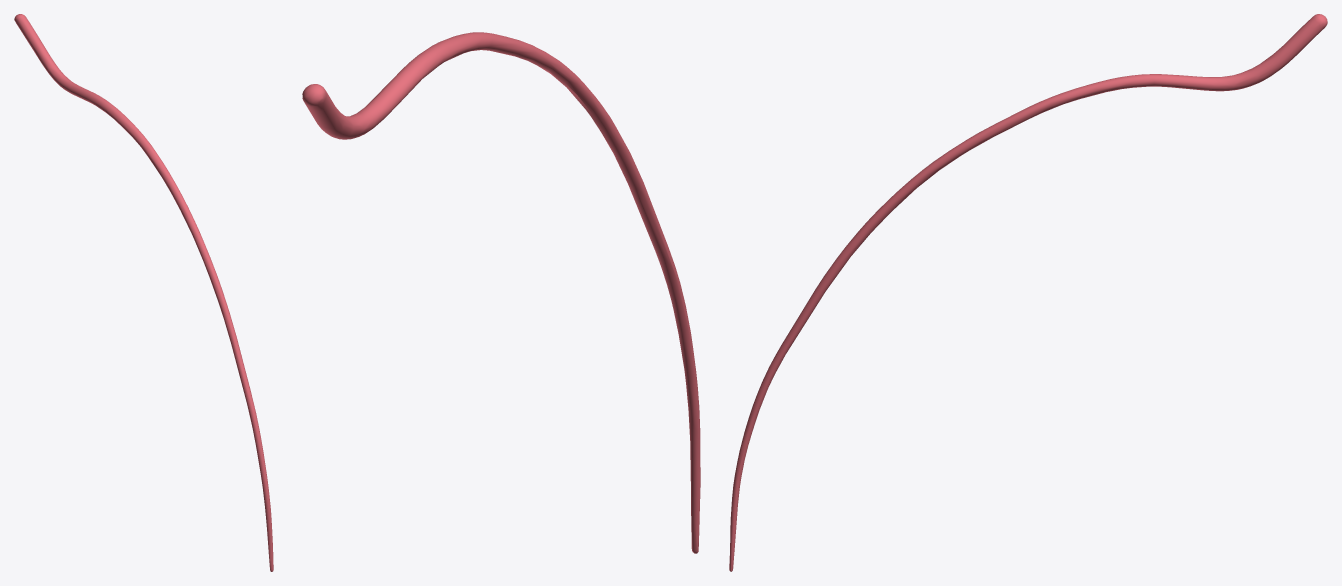
Rendered from fma20818_fj3593.glb.
3 renders of one model, left to right at view 1: azimuth 30°, elevation 25°; view 2: azimuth 150°, elevation 25°; view 3: azimuth 270°, elevation 25°, orthographic. The views are drawn at different scales.
Parts seen in each view (by area): view 1: FMA20818_FJ3593; view 2: FMA20818_FJ3593; view 3: FMA20818_FJ3593.
Part boxes in pixels (x1,y1,x2,y2): FMA20818_FJ3593: (14,14,273,571); FMA20818_FJ3593: (302,32,700,553); FMA20818_FJ3593: (729,14,1327,571).
Bounding box in the file's own units: 0.00527 × 0.0544 × 0.0549.
